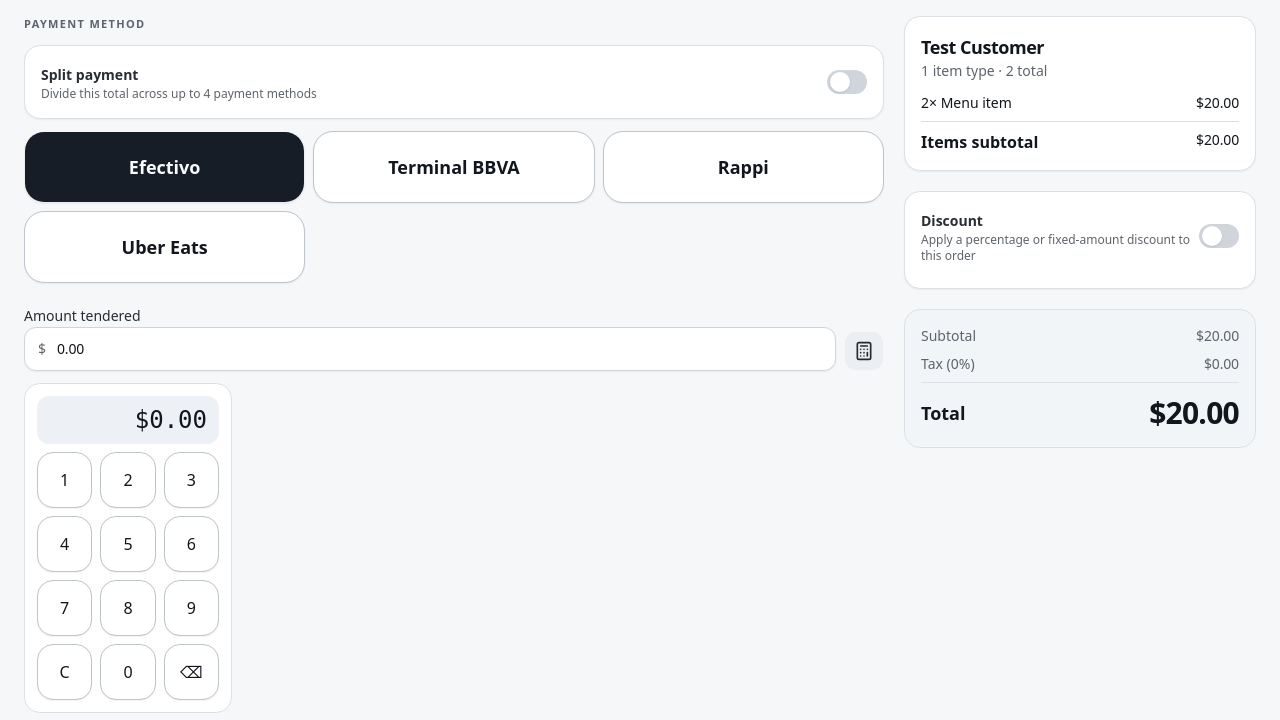
Test case: PaymentForm — card charge override › reset button clears the override
Click the button with test id "payment-btn-card" at (454, 166), box [313,130,595,202]
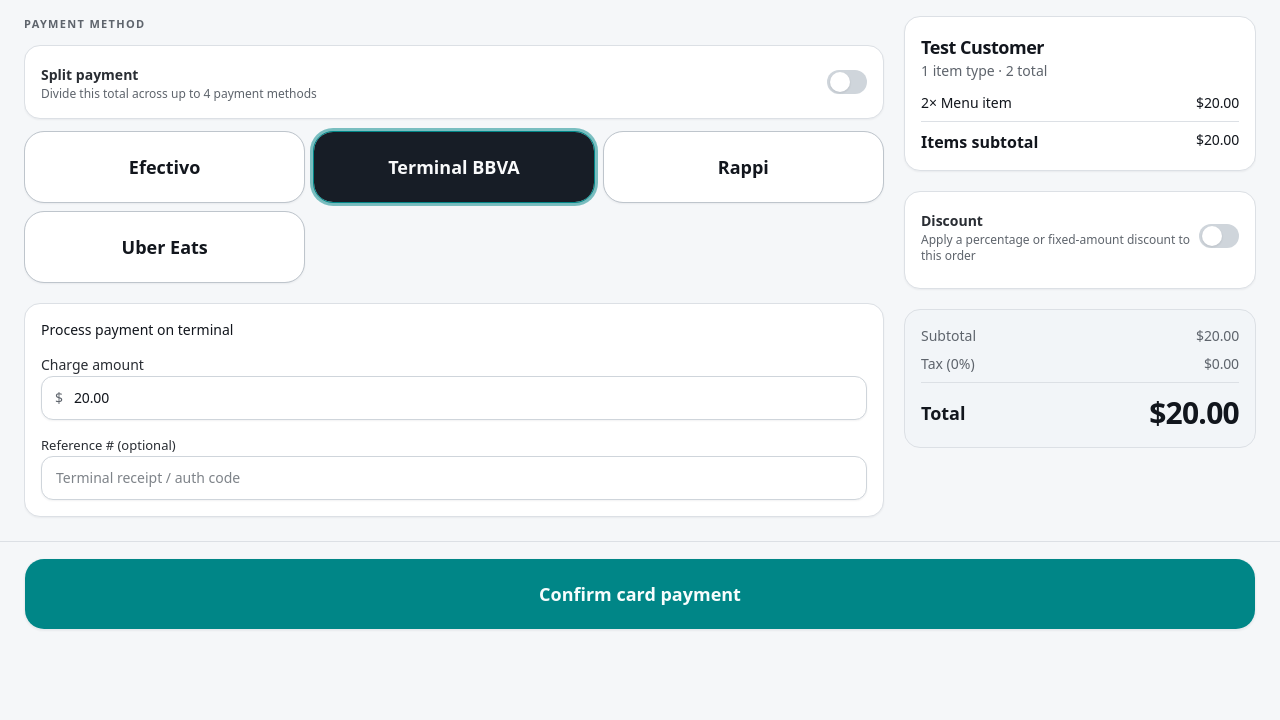
Replace the text in the field labelled "Charge amount" with "99.00" at (454, 398), box [41,376,867,420]
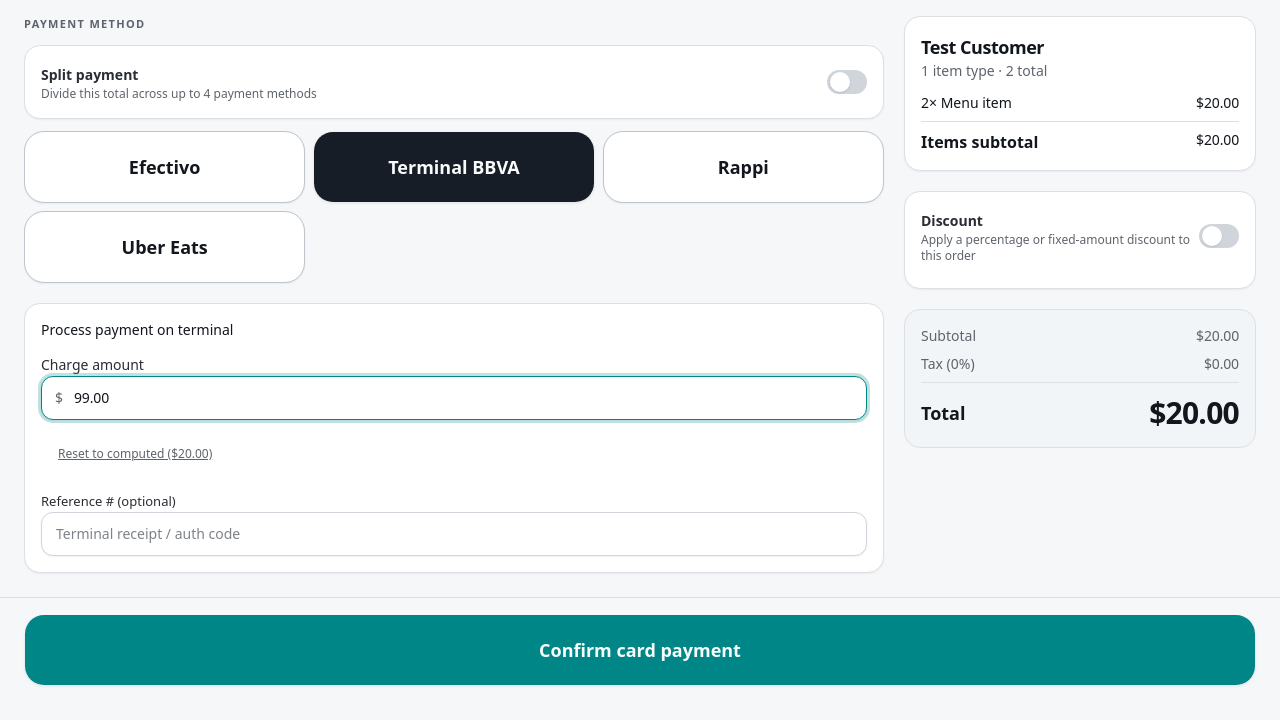
Press Tab
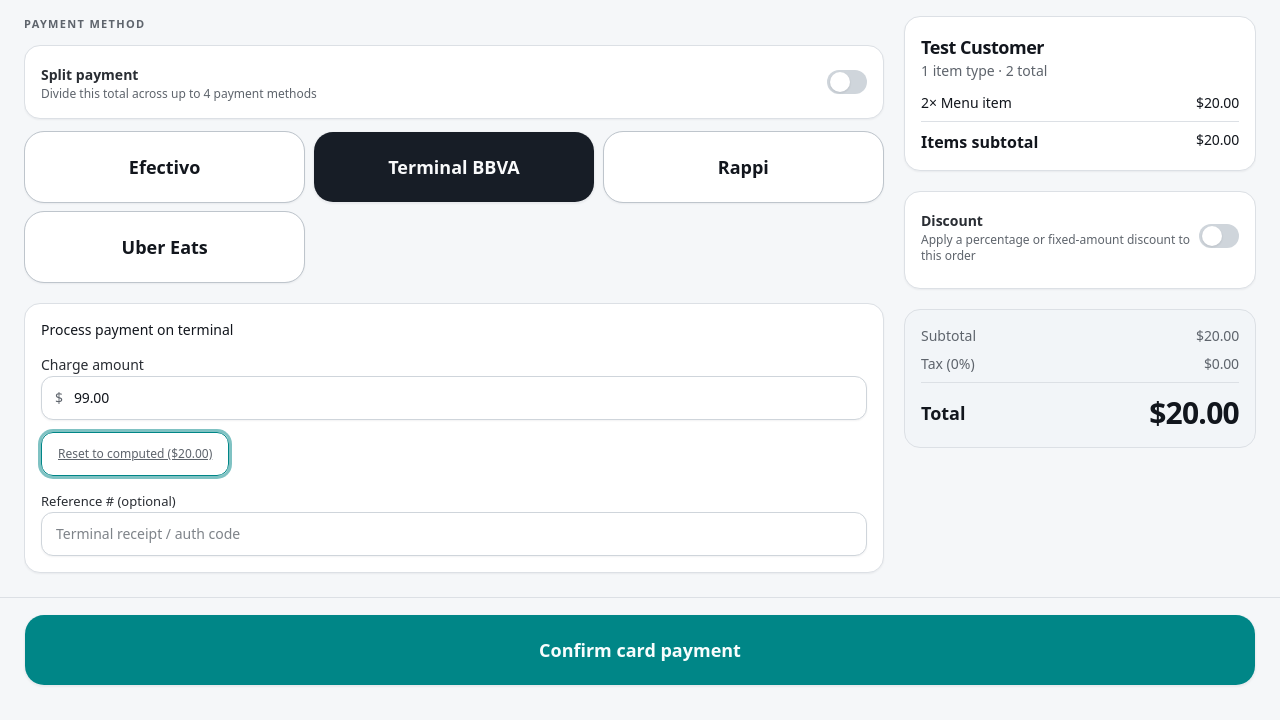
Click the button with test id "card-override-reset" at (135, 454), box [41,432,229,476]
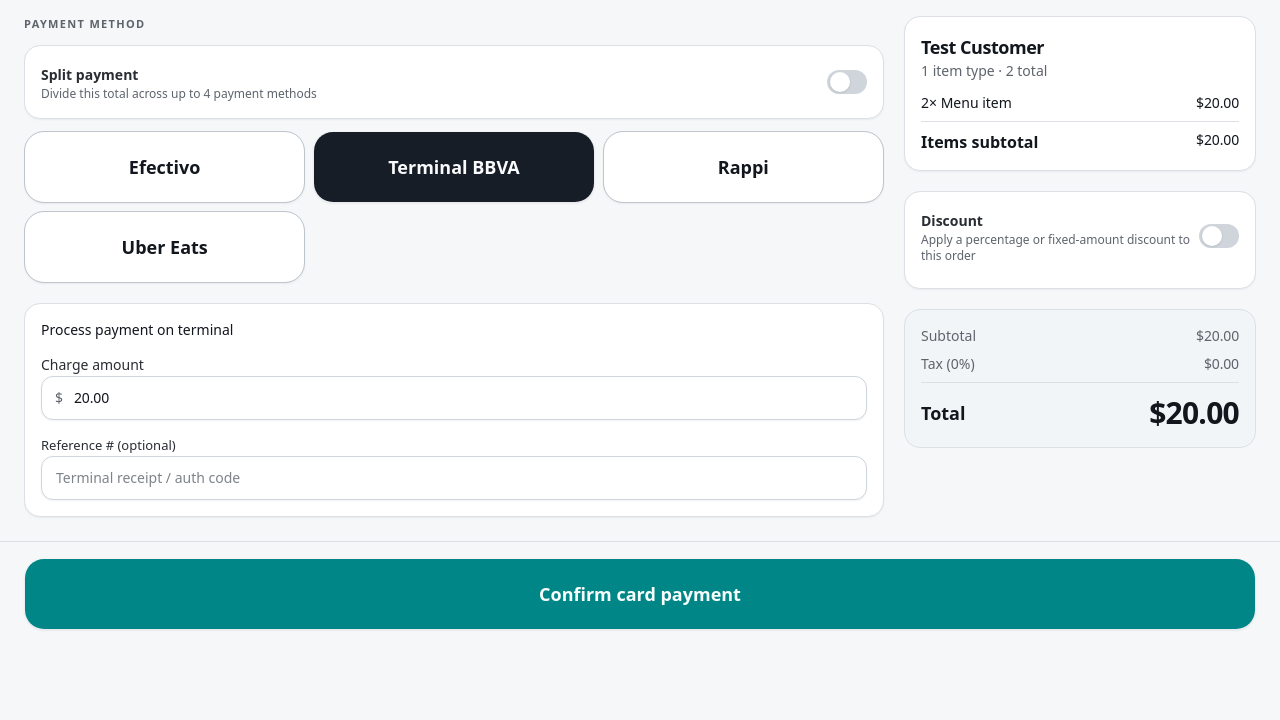
Expected: the button with test id "card-override-reset" is gone
Expected: the field labelled "Charge amount" holds "20.00", [41,376,867,420]
